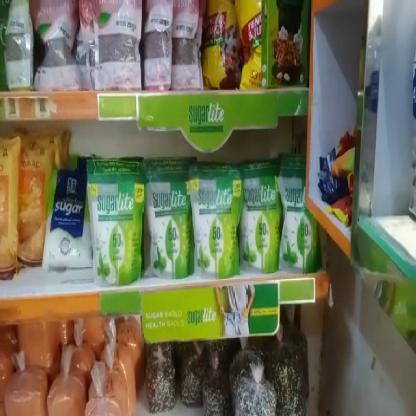SUGARLITE POUCH 500G: (92, 171, 142, 284), (191, 182, 240, 277), (144, 180, 192, 276), (239, 176, 279, 272), (278, 178, 314, 270)
